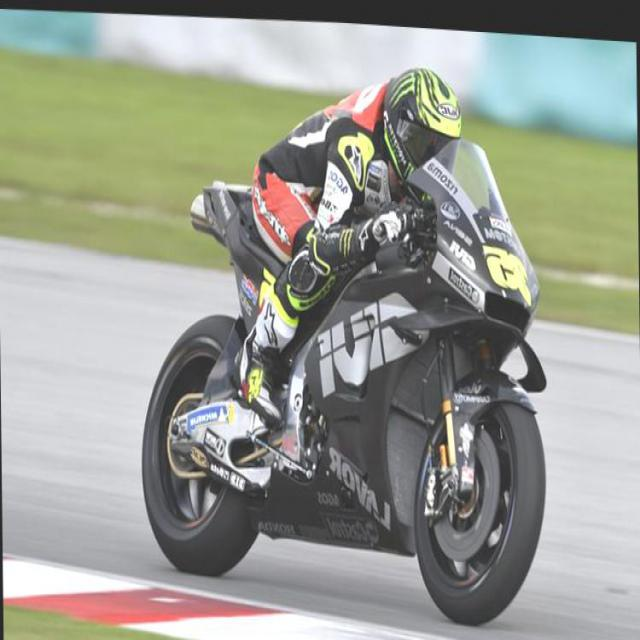HRC RCV 213: (136, 111, 547, 630)
